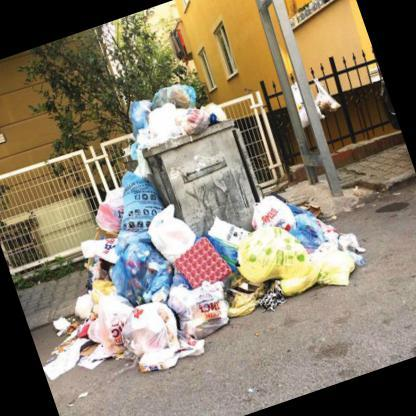Garbage: (98, 65, 238, 164), (188, 210, 271, 332), (84, 165, 176, 263), (280, 202, 363, 304), (104, 292, 184, 380), (230, 217, 311, 284), (168, 280, 238, 356), (63, 284, 135, 356), (106, 162, 166, 237), (144, 204, 194, 268), (34, 305, 91, 360), (106, 91, 160, 140), (138, 103, 192, 145), (148, 78, 198, 113), (184, 101, 227, 131)
